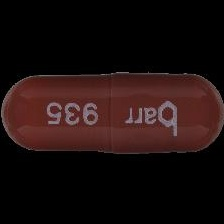54868-6307: (0, 0, 224, 224)
